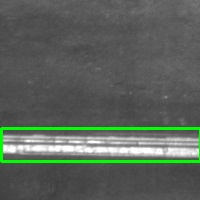scratches: (1, 128, 200, 161)
